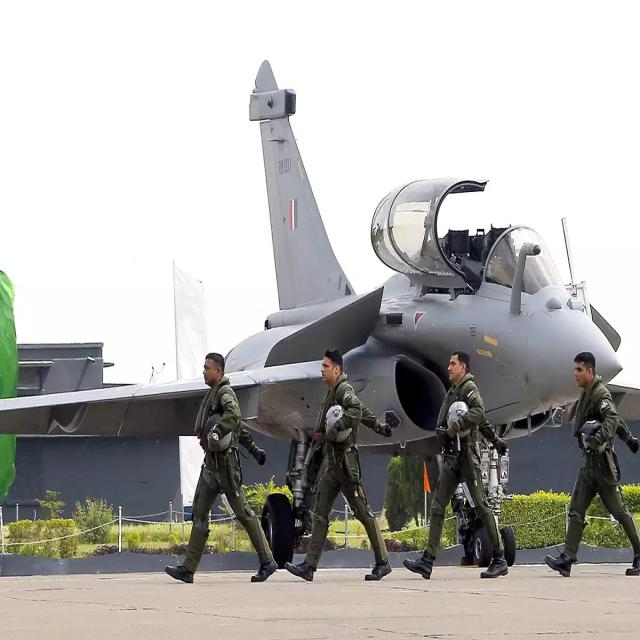MIL_Plane: (0, 58, 640, 570)
